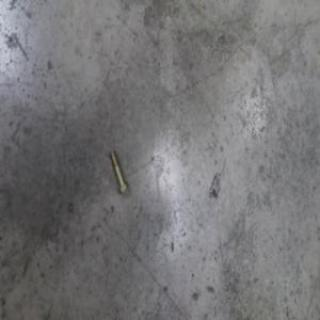Bolttrack_idkeyframe: (108, 150, 128, 196)
